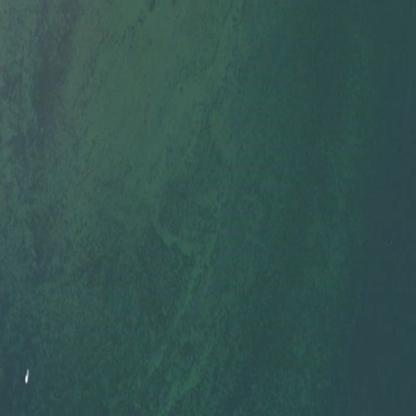ship: (14, 364, 40, 388)
